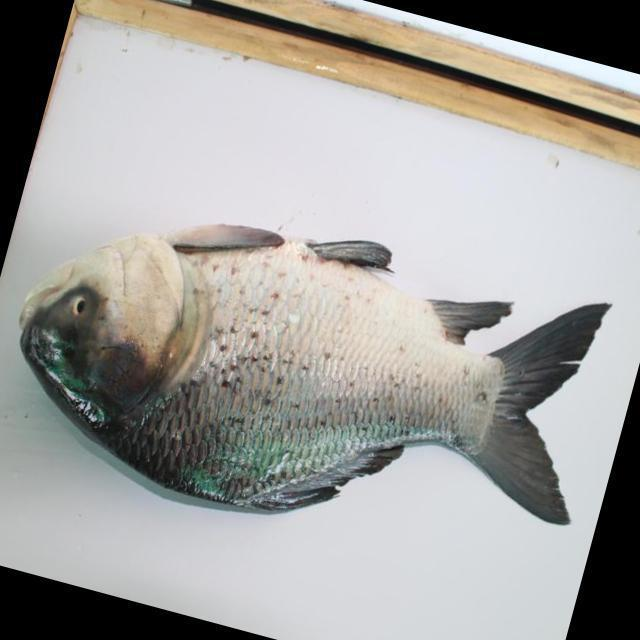Catla: (16, 226, 613, 525)
